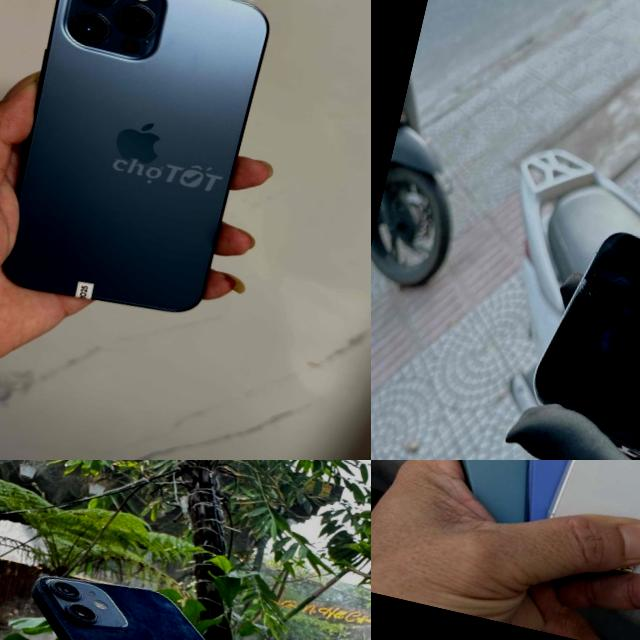scratch: (73, 583, 365, 640)
screen_defect: (536, 238, 640, 408)
